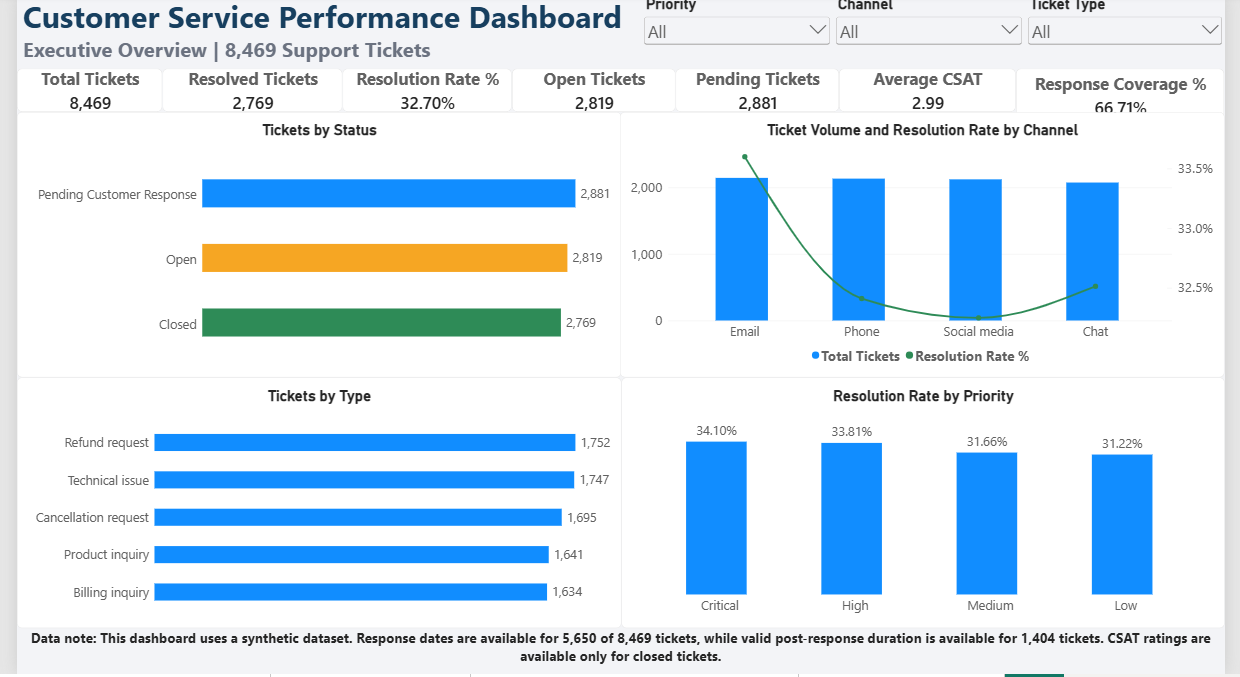

The page's visual inventory and layout, read from the dashboard file:
{"tool":"powerbi","page":{"name":"Customer Service Overview","canvas":[1920,1080],"ordinal":0},"visuals":[{"type":"textbox","box":[10.5,0,981.6,115.8],"z":0},{"type":"slicer","fields":{"Values":["DimPriority.priority"]},"box":[992.1,0,305.3,97.4],"z":1},{"type":"slicer","fields":{"Values":["DimChannel.channel"]},"box":[1297.4,0,305,97.4],"z":2},{"type":"slicer","fields":{"Values":["DimTicketType.ticket_type"]},"box":[1602.6,0,318.4,97.4],"z":3},{"type":"cardVisual","fields":{"Data":["FactTickets.Total Tickets"]},"box":[0,116.9,231.4,69.2],"z":4},{"type":"cardVisual","fields":{"Data":["FactTickets.Resolved Tickets"]},"box":[231.4,116.9,286.3,69.2],"z":5},{"type":"cardVisual","fields":{"Data":["FactTickets.Resolution Rate %"]},"box":[517.7,116.9,269.6,69.2],"z":6},{"type":"cardVisual","fields":{"Data":["FactTickets.Open Tickets"]},"box":[787.4,116.9,260.1,69.2],"z":7},{"type":"cardVisual","fields":{"Data":["FactTickets.Pending Tickets"]},"box":[1047.4,116.9,260.1,69.2],"z":8},{"type":"cardVisual","fields":{"Data":["FactTickets.Average CSAT"]},"box":[1307.5,116.9,281.5,69.2],"z":9},{"type":"cardVisual","fields":{"Data":["FactTickets.Response Coverage %"]},"box":[1589,116.9,331.6,85.9],"z":10},{"type":"clusteredBarChart","title":"Tickets by Status","fields":{"Category":["FactTickets.ticket_status"],"Y":["FactTickets.Total Tickets"]},"box":[0,186.1,961.5,422.3],"z":11},{"type":"clusteredBarChart","title":"Tickets by Type","fields":{"Category":["DimTicketType.ticket_type"],"Y":["FactTickets.Total Tickets"]},"box":[0,608.4,961.5,398.4],"z":12},{"type":"lineClusteredColumnComboChart","title":"Ticket Volume and Resolution Rate by Channel","fields":{"Category":["DimChannel.channel"],"Y":["FactTickets.Total Tickets"],"Y2":["FactTickets.Resolution Rate %"]},"box":[959.1,186.1,961.5,422.3],"z":13},{"type":"clusteredColumnChart","title":"Resolution Rate by Priority","fields":{"Category":["DimPriority.priority"],"Y":["FactTickets.Resolution Rate %"]},"box":[961.5,608.4,959.1,398.4],"z":14},{"type":"textbox","box":[0,1007.9,1921.1,71.1],"z":15}]}

Visuals, with their boxes on the page's 1920x1080 design canvas (x1, y1, x2, y2). These are canvas units, not pixel positions in the 1240x677 screenshot, which may show the page scaled, cropped or inside an application window:
textbox: [left=10, top=0, right=992, bottom=116]
slicer - DimPriority.priority: [left=992, top=0, right=1297, bottom=97]
slicer - DimChannel.channel: [left=1297, top=0, right=1602, bottom=97]
slicer - DimTicketType.ticket_type: [left=1603, top=0, right=1921, bottom=97]
cardVisual - FactTickets.Total Tickets: [left=0, top=117, right=231, bottom=186]
cardVisual - FactTickets.Resolved Tickets: [left=231, top=117, right=518, bottom=186]
cardVisual - FactTickets.Resolution Rate %: [left=518, top=117, right=787, bottom=186]
cardVisual - FactTickets.Open Tickets: [left=787, top=117, right=1048, bottom=186]
cardVisual - FactTickets.Pending Tickets: [left=1047, top=117, right=1308, bottom=186]
cardVisual - FactTickets.Average CSAT: [left=1308, top=117, right=1589, bottom=186]
cardVisual - FactTickets.Response Coverage %: [left=1589, top=117, right=1921, bottom=203]
"Tickets by Status" clusteredBarChart: [left=0, top=186, right=962, bottom=608]
"Tickets by Type" clusteredBarChart: [left=0, top=608, right=962, bottom=1007]
"Ticket Volume and Resolution Rate by Channel" lineClusteredColumnComboChart: [left=959, top=186, right=1921, bottom=608]
"Resolution Rate by Priority" clusteredColumnChart: [left=962, top=608, right=1921, bottom=1007]
textbox: [left=0, top=1008, right=1921, bottom=1079]
